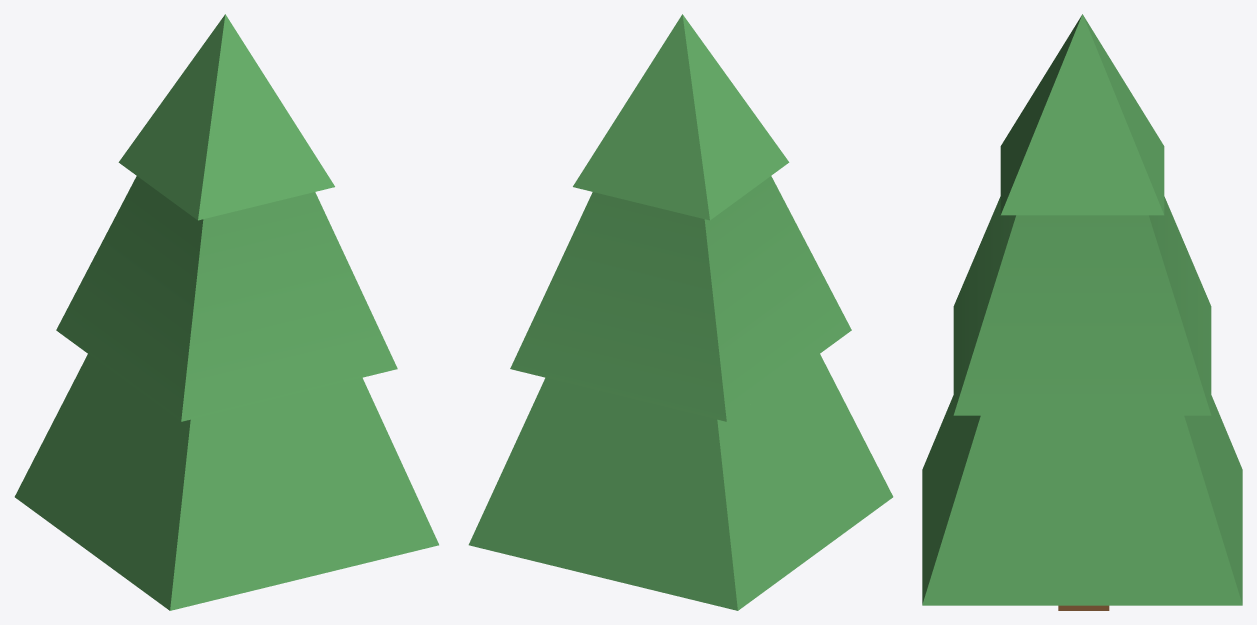
File: tree.obj
3 renders of one model, left to right at view 1: azimuth 30°, elevation 25°; view 2: azimuth 150°, elevation 25°; view 3: azimuth 270°, elevation 25°, orthographic. The views are drawn at different scales.
Parts seen in each view (by area): view 1: Treetop; view 2: Treetop; view 3: Treetop.
Boxes of the visible parts, <box> form: Treetop: <box>14,14,438,610</box>; Treetop: <box>468,14,893,610</box>; Treetop: <box>922,14,1242,605</box>.
Bounding box in the file's own units: 3.1 × 6.25 × 3.1.
